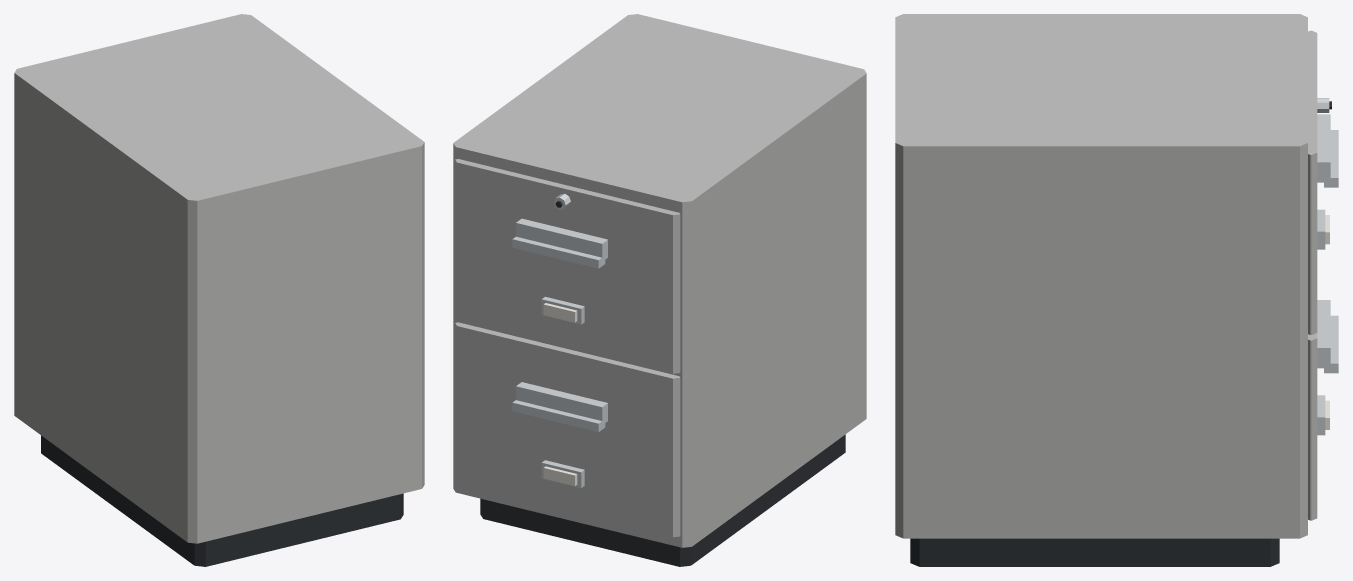
Rendered from SM_LPI_Office_FileCabinet_01.fbx.
The picture shows the model from 3 angles, left to right: view 1: azimuth 30°, elevation 25°; view 2: azimuth 150°, elevation 25°; view 3: azimuth 270°, elevation 25°; orthographic projection. The views are drawn at different scales.
Visible parts, largest first — view 1: SM_LPI_Office_FileCabinet_01; view 2: SM_LPI_Office_FileCabinet_01; view 3: SM_LPI_Office_FileCabinet_01.
Part boxes in pixels (left/top/right/bottom): SM_LPI_Office_FileCabinet_01: left=14, top=14, right=424, bottom=566; SM_LPI_Office_FileCabinet_01: left=453, top=14, right=866, bottom=566; SM_LPI_Office_FileCabinet_01: left=895, top=14, right=1338, bottom=566.
Size of the model in its own units: 0.47 by 0.71 by 0.666.
